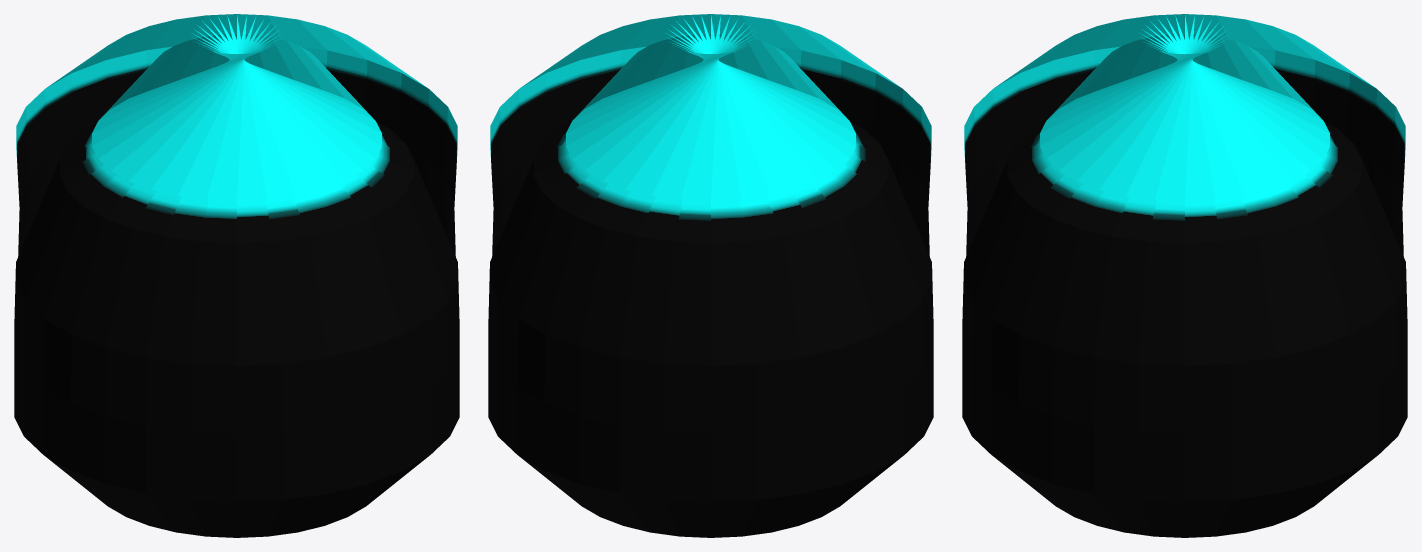
3 renders of one model, left to right at view 1: azimuth 30°, elevation 25°; view 2: azimuth 150°, elevation 25°; view 3: azimuth 270°, elevation 25°, orthographic.
Visible parts, largest first — view 1: algeomath; view 2: algeomath; view 3: algeomath.
Boxes of the visible parts, left/top/right/bottom form: algeomath: left=14, top=14, right=459, bottom=537; algeomath: left=488, top=14, right=933, bottom=537; algeomath: left=962, top=14, right=1407, bottom=537.
Size of the model in its own units: 6.06 by 6.58 by 6.03.
Materials: 1 (1 with a texture image).
